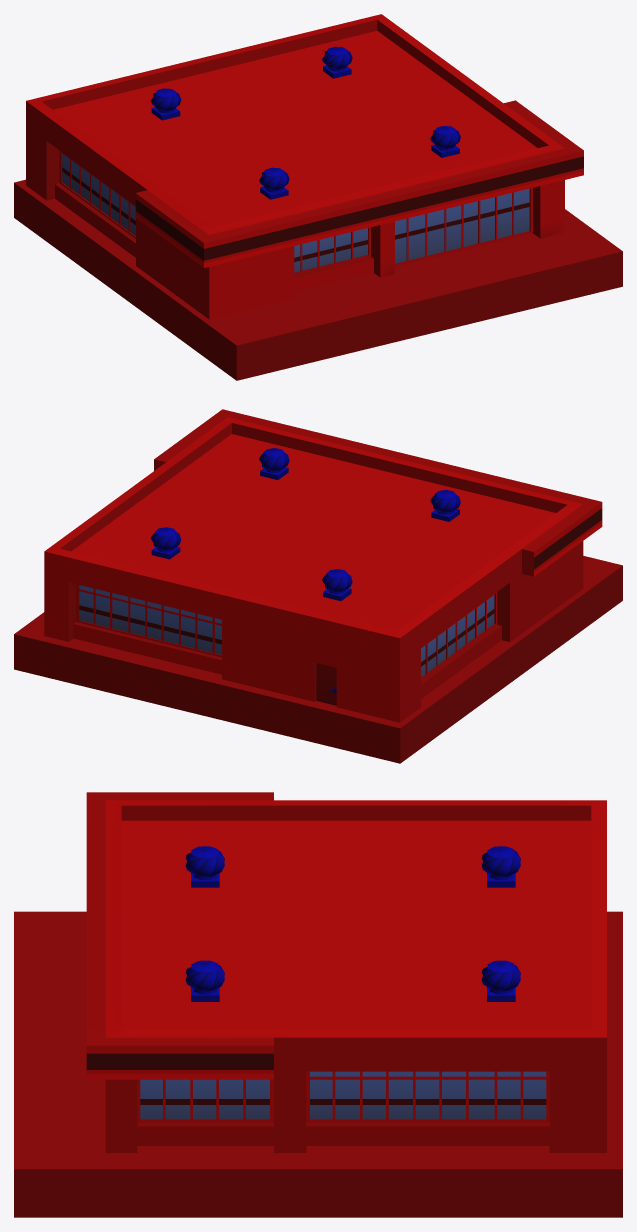
File: buildings-business-conveniencestore_v2.fbx
The picture shows the model from 3 angles, top to bottom: view 1: azimuth 30°, elevation 25°; view 2: azimuth 150°, elevation 25°; view 3: azimuth 270°, elevation 25°; orthographic projection. The views are drawn at different scales.
Visible parts, largest first — view 1: ConvenienceStore_v2_base, ConvenienceStore_v2_windowRefl, ConvenienceStore_v2_refl; view 2: ConvenienceStore_v2_base, ConvenienceStore_v2_windowRefl, ConvenienceStore_v2_refl; view 3: ConvenienceStore_v2_base, ConvenienceStore_v2_windowRefl, ConvenienceStore_v2_refl, ConvenienceStore_v2_vent1_anim_0_90_0, ConvenienceStore_v2_vent3_anim_0_90_0, ConvenienceStore_v2_vent2_anim_0_90_0, ConvenienceStore_v2_vent4_anim_0_90_0.
Part boxes in pixels (<box>): ConvenienceStore_v2_base: <box>14,14,622,380</box>; ConvenienceStore_v2_windowRefl: <box>62,153,529,272</box>; ConvenienceStore_v2_refl: <box>151,46,459,199</box>; ConvenienceStore_v2_base: <box>14,409,622,763</box>; ConvenienceStore_v2_windowRefl: <box>79,585,494,676</box>; ConvenienceStore_v2_refl: <box>151,448,459,692</box>; ConvenienceStore_v2_base: <box>14,792,622,1217</box>; ConvenienceStore_v2_windowRefl: <box>140,1071,546,1119</box>; ConvenienceStore_v2_refl: <box>191,846,515,1001</box>; ConvenienceStore_v2_vent1_anim_0_90_0: <box>185,851,224,877</box>; ConvenienceStore_v2_vent3_anim_0_90_0: <box>481,851,520,877</box>; ConvenienceStore_v2_vent2_anim_0_90_0: <box>481,965,520,991</box>; ConvenienceStore_v2_vent4_anim_0_90_0: <box>185,965,224,991</box>.
Bounding box in the file's own units: 23.72 × 7.68 × 23.33.
